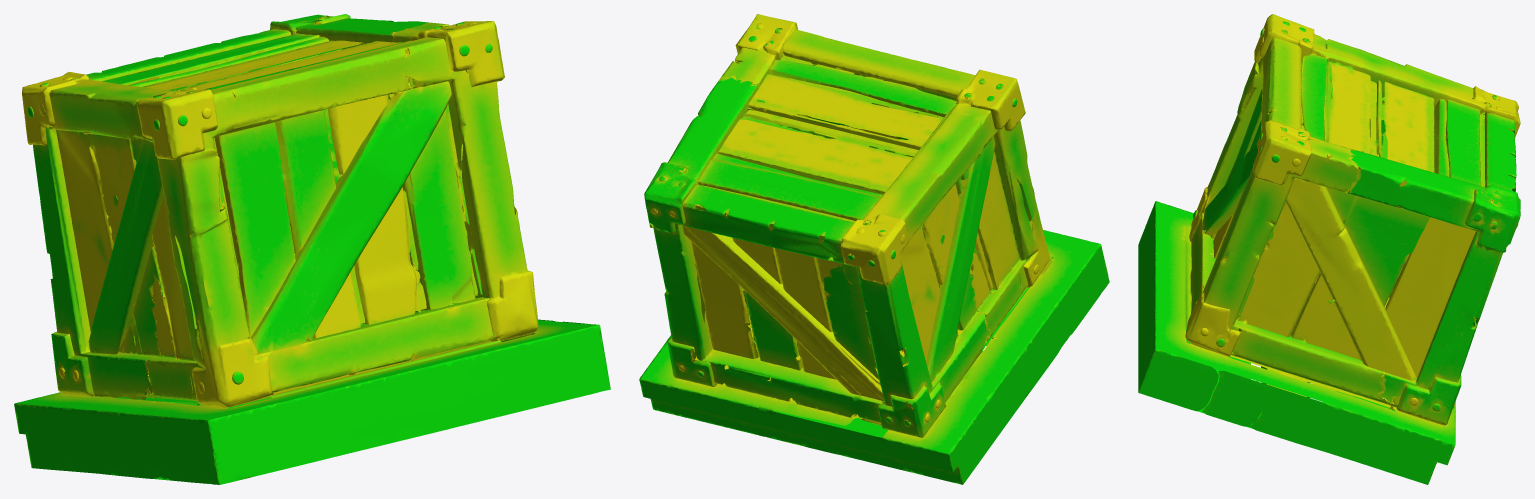
File: lootcrate.fbx
3 views of the same model, side by side, from view 1: azimuth 30°, elevation 25°; view 2: azimuth 150°, elevation 25°; view 3: azimuth 270°, elevation 25° (orthographic). The views are drawn at different scales.
Parts seen in each view (by area): view 1: geometry_0; view 2: geometry_0; view 3: geometry_0.
Part boxes in pixels (<box>): geometry_0: <box>14,14,610,484</box>; geometry_0: <box>639,14,1109,484</box>; geometry_0: <box>1138,14,1520,484</box>.
Size of the model in its own units: 171 by 180 by 186.
